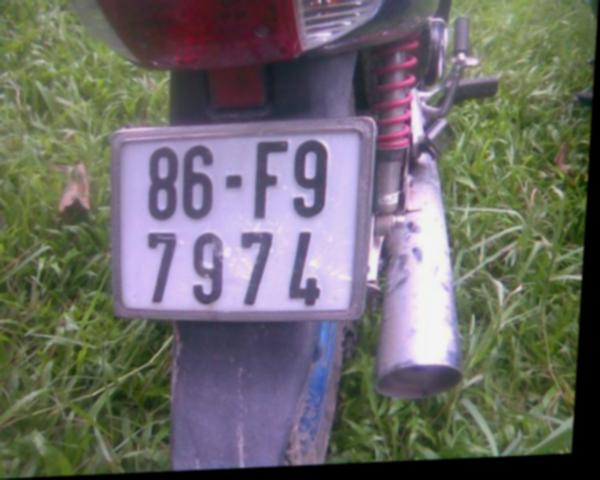License_Plate: (98, 114, 377, 328)
